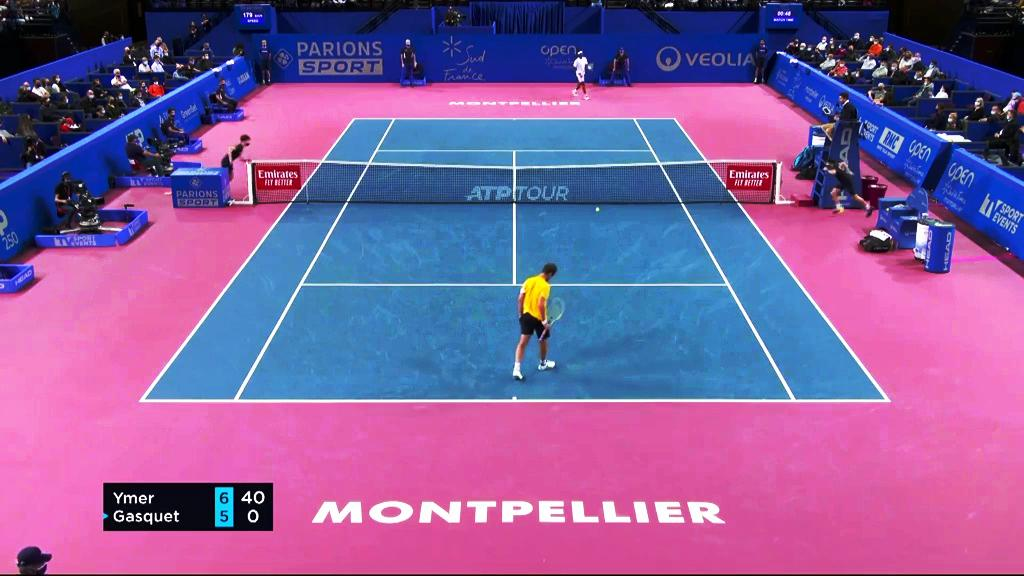tennis-court: (139, 118, 891, 402)
